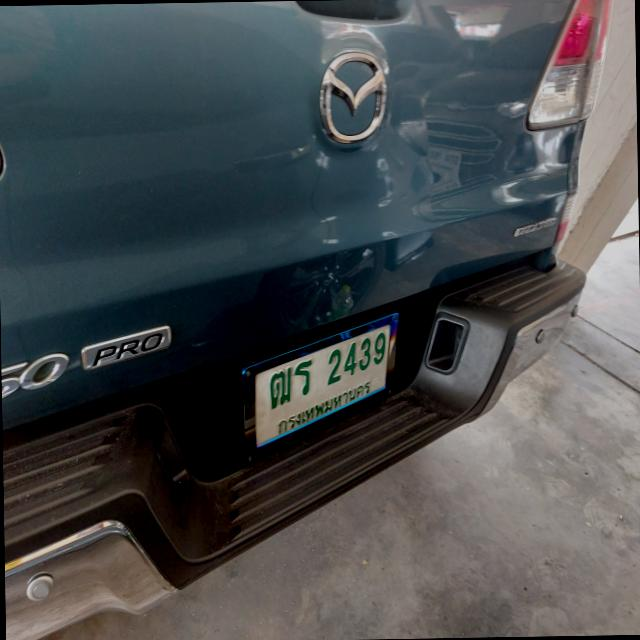license_plate: (238, 310, 407, 474)
